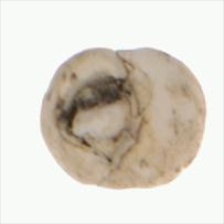L3: (61, 74, 139, 162)
L4: (39, 46, 207, 190)
